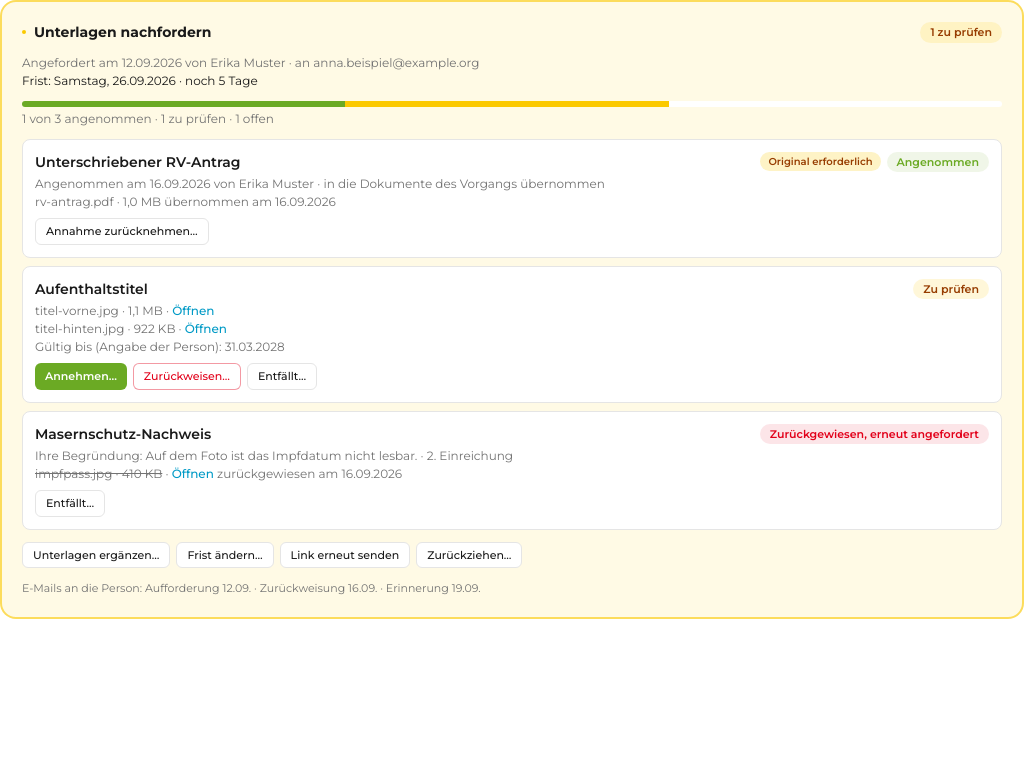
Test: Mailergebnis in der Antwort › 200 mit mail FAILED: rote Leiste, nie grün — und der Dialog ist zu
Click the button with aria-label "Zurückweisen – Aufenthaltstitel" at point(187, 376), box x1=133 y1=363 x2=241 y2=390
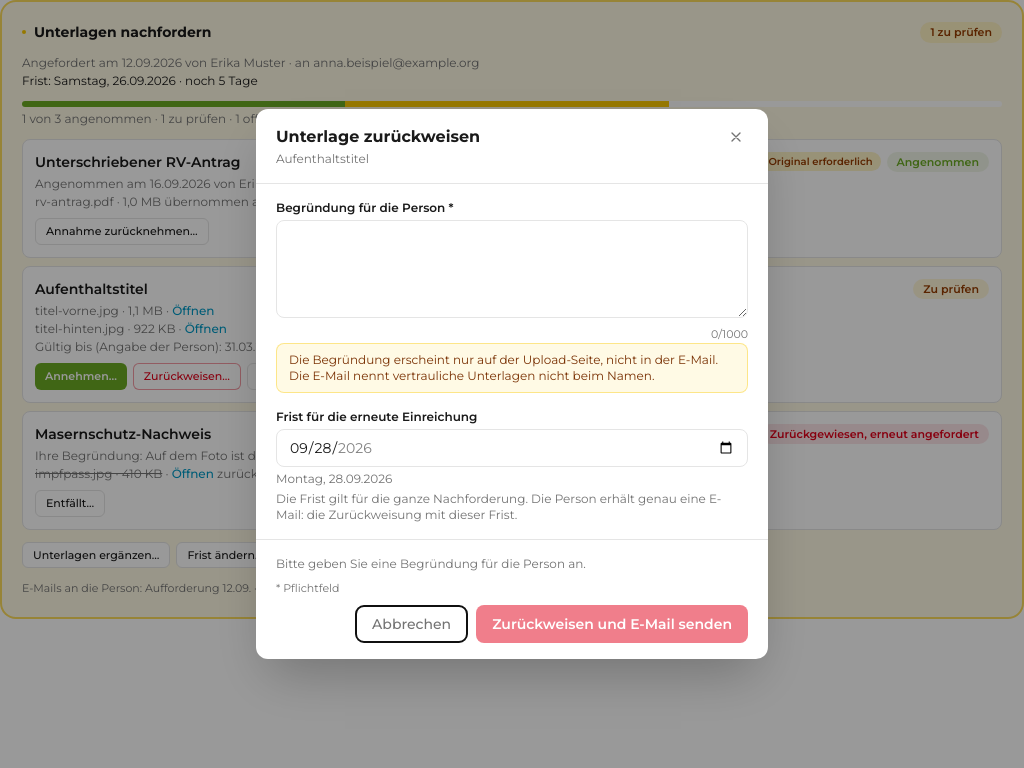
Type "Die Rückseite fehlt." into the text box labelled "Begründung für die Person *" at point(512, 269), box x1=276 y1=220 x2=748 y2=318
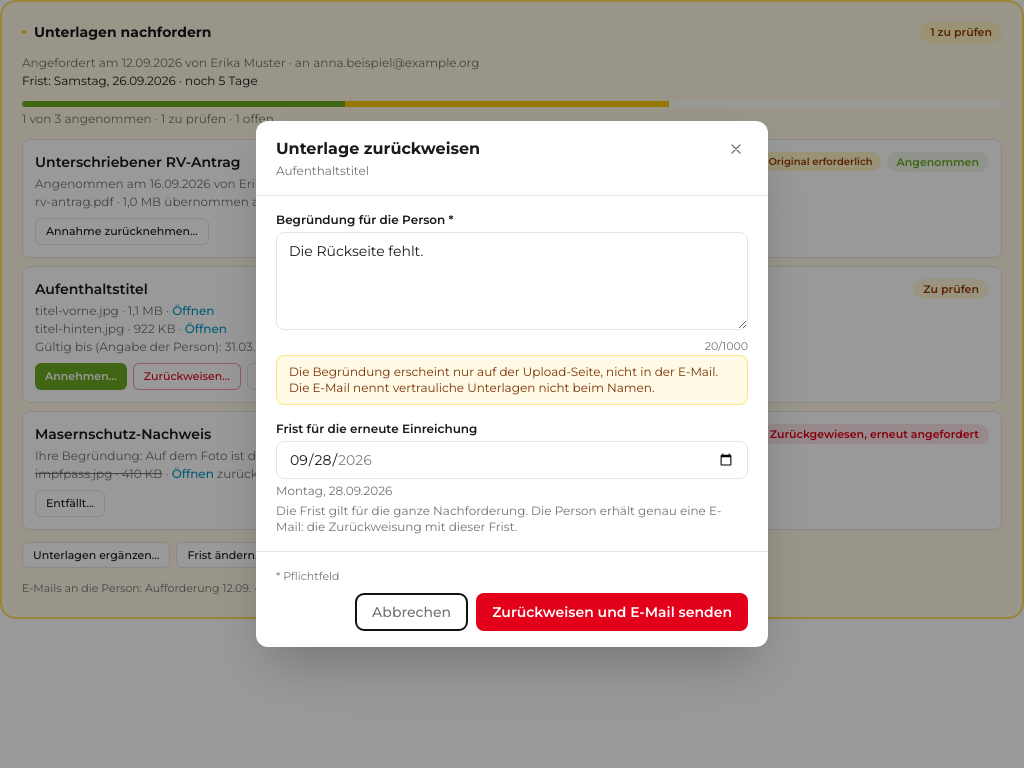
Click the button "Zurückweisen und E-Mail senden" at point(612, 612), box x1=476 y1=593 x2=748 y2=631
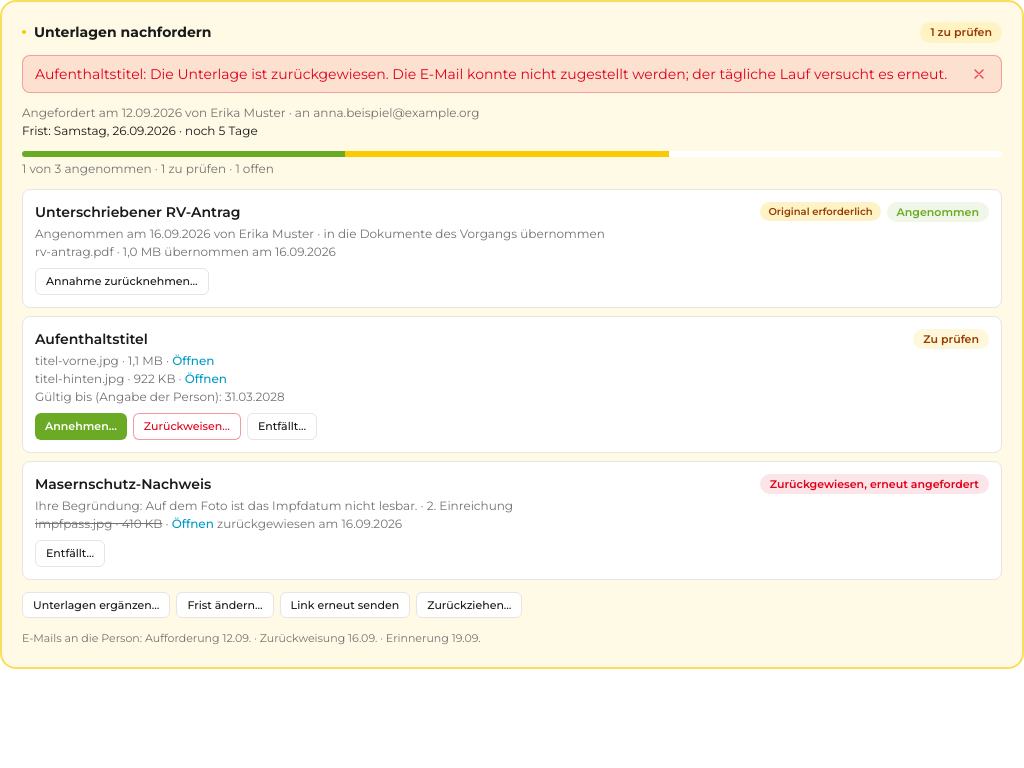
Check: the dialog is gone
Check: the message shows "Die Unterlage ist zurückgewiesen.", box x1=35 y1=64 x2=947 y2=82
Check: the message shows "Die E-Mail konnte nicht zugestellt werden; der tägliche Lauf versucht es erneut.", box x1=35 y1=64 x2=947 y2=82
